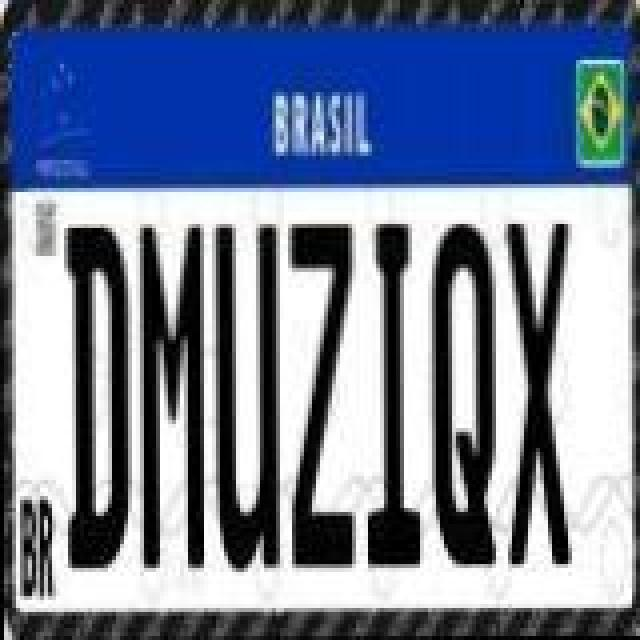D: (64, 226, 132, 574)
I: (364, 220, 424, 568)
M: (136, 226, 204, 574)
Q: (428, 220, 496, 568)
U: (212, 224, 280, 572)
X: (504, 218, 572, 566)
Z: (288, 224, 356, 572)
